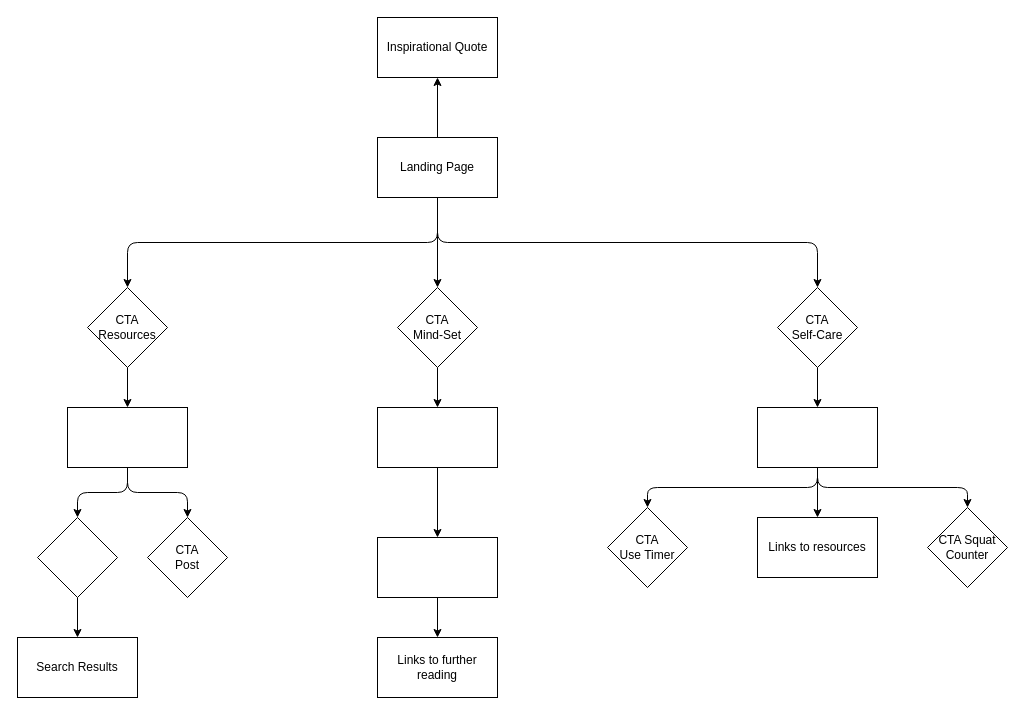
Image size: 1025x715. Some labels were removed from this diagram. Each missing label, with the centre of its shape:
CTA Search: (x=77, y=557)
Inspirational pictures and quotes: (x=437, y=567)
Mindset Page: (x=437, y=437)
Resources Page: (x=127, y=437)
Self-Care Page: (x=817, y=437)
